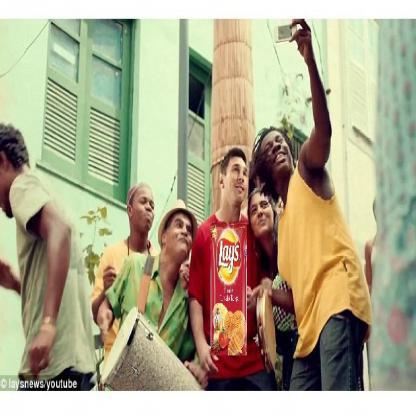tangy_tomato: (208, 221, 248, 359)
